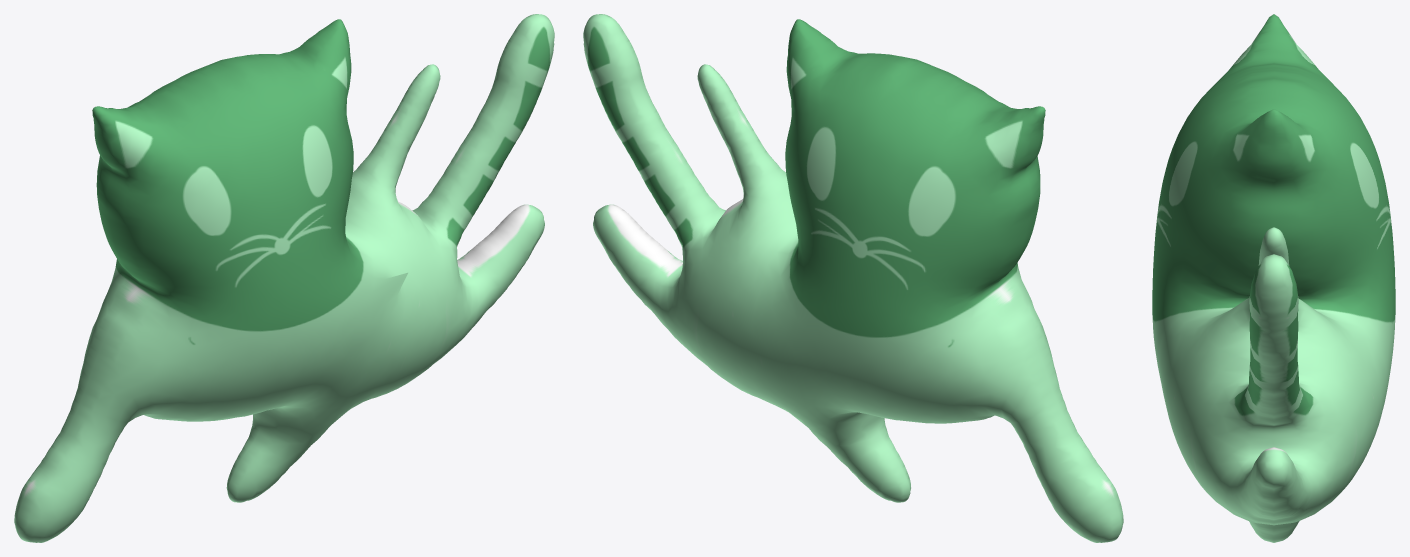
Rendered from Parkcat40.glb.
3 views of the same model, side by side, from view 1: azimuth 30°, elevation 25°; view 2: azimuth 150°, elevation 25°; view 3: azimuth 270°, elevation 25° (orthographic). The views are drawn at different scales.
Bounding box in the file's own units: 5.91 × 4.83 × 2.22.
Materials: 1 (1 with a texture image).
